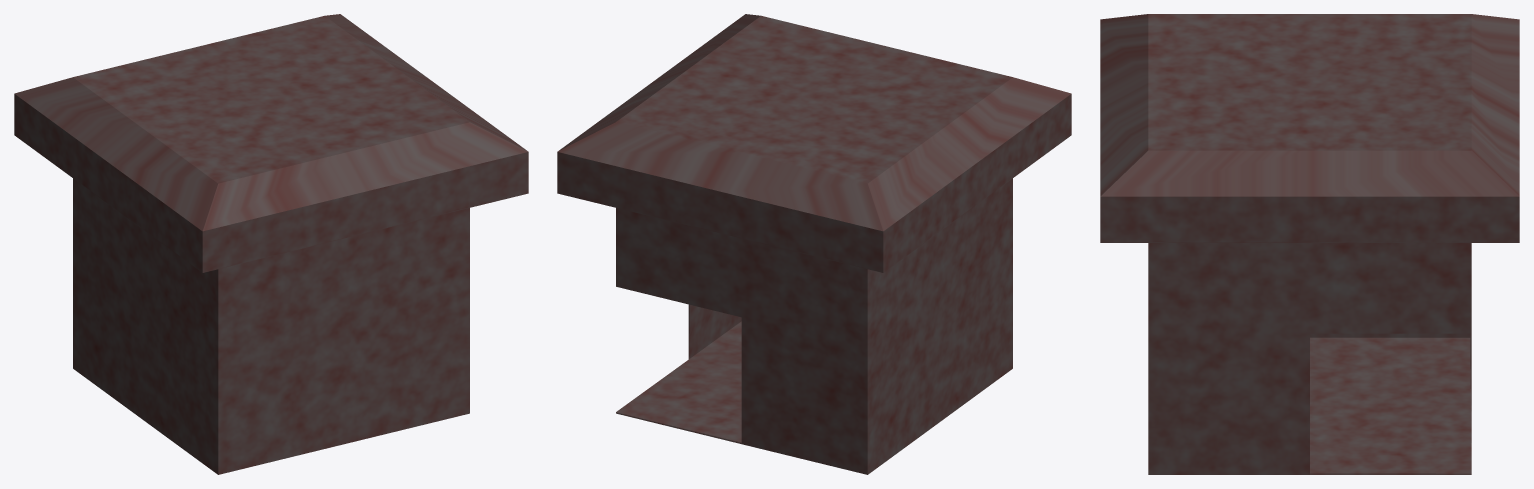
The model's file is brokenBuilding03.fbx.
3 renders of one model, left to right at view 1: azimuth 30°, elevation 25°; view 2: azimuth 150°, elevation 25°; view 3: azimuth 270°, elevation 25°, orthographic. The views are drawn at different scales.
Parts seen in each view (by area): view 1: broekNBuilding_03; view 2: broekNBuilding_03; view 3: broekNBuilding_03.
Part boxes in pixels (x1,y1,x2,y2): broekNBuilding_03: (14, 14, 528, 474); broekNBuilding_03: (557, 14, 1071, 474); broekNBuilding_03: (1100, 14, 1519, 474).
Size of the model in its own units: 730 by 623 by 730.
